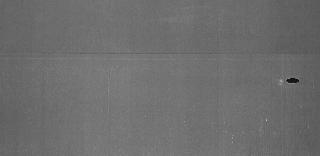punching hole: (286, 74, 302, 86)
welding line: (1, 50, 317, 56)
